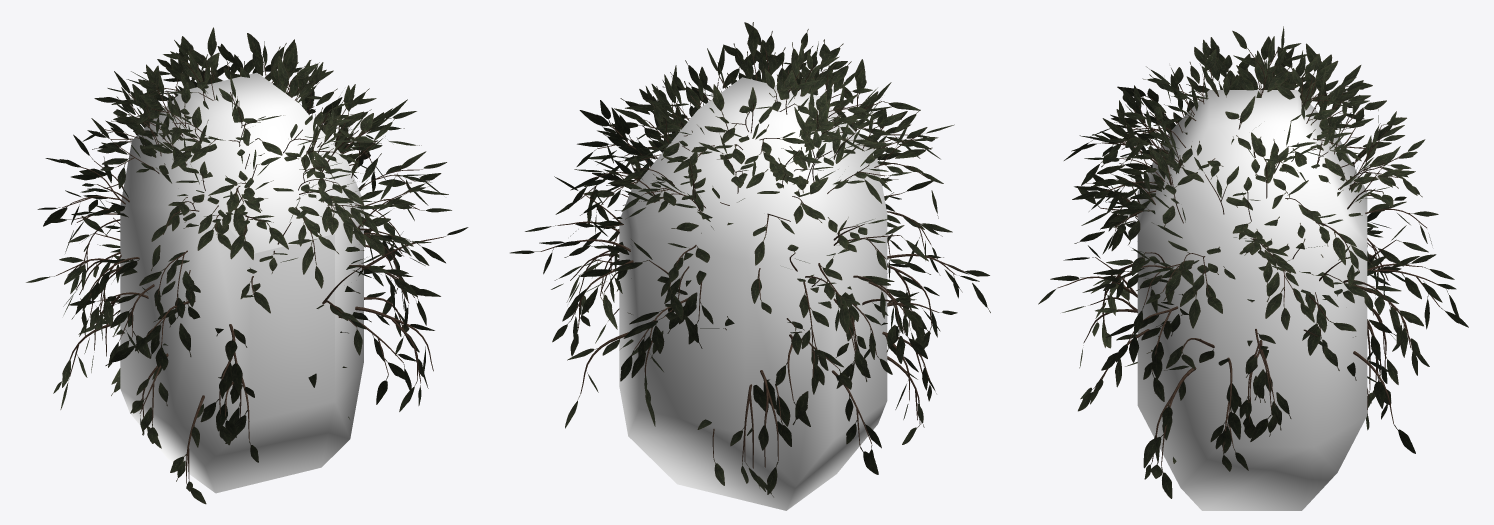
Rendered from SM_bush_01.fbx.
The picture shows the model from 3 angles, left to right: view 1: azimuth 30°, elevation 25°; view 2: azimuth 150°, elevation 25°; view 3: azimuth 270°, elevation 25°; orthographic projection. The views are drawn at different scales.
Parts seen in each view (by area): view 1: SM_bush_01_ConvexHulls, SM_bush_01; view 2: SM_bush_01_ConvexHulls, SM_bush_01; view 3: SM_bush_01_ConvexHulls, SM_bush_01.
Boxes of the visible parts, box(x1,y1,x2,y2) form: SM_bush_01_ConvexHulls: box(120, 72, 363, 493); SM_bush_01: box(26, 27, 468, 504); SM_bush_01_ConvexHulls: box(619, 77, 887, 510); SM_bush_01: box(510, 22, 990, 497); SM_bush_01_ConvexHulls: box(1137, 90, 1367, 510); SM_bush_01: box(1038, 26, 1468, 498).
Bounding box in the file's own units: 190 × 198 × 182.
